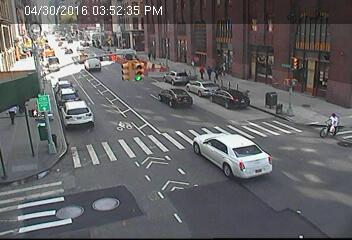neg: (90, 185, 121, 226), (24, 93, 52, 130), (202, 139, 228, 173), (78, 43, 103, 76), (157, 82, 181, 115), (22, 29, 46, 61), (121, 49, 144, 79), (321, 110, 343, 139), (246, 156, 268, 185), (99, 115, 120, 144), (52, 150, 72, 178), (62, 86, 82, 113), (250, 40, 269, 66), (210, 32, 228, 55), (154, 148, 172, 171), (260, 86, 276, 107), (287, 67, 301, 85)
pos: (193, 66, 205, 81), (203, 63, 214, 78), (215, 68, 224, 80)
